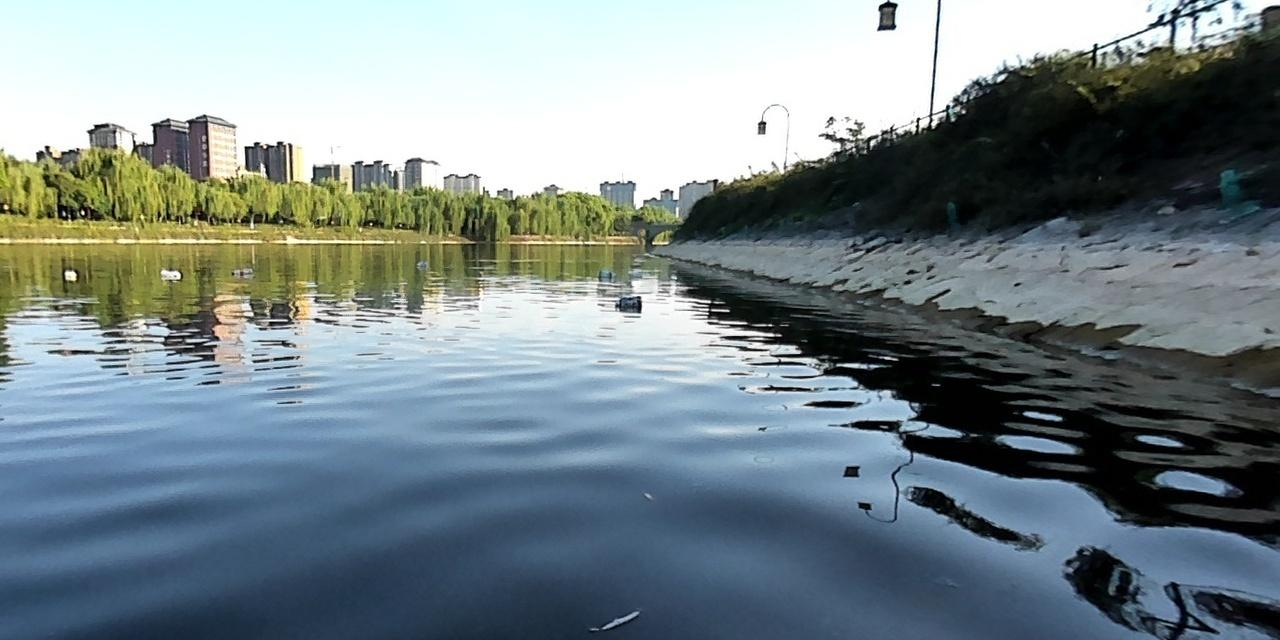bottle: (610, 293, 645, 311), (229, 264, 254, 277), (159, 267, 183, 280), (596, 266, 615, 277)
